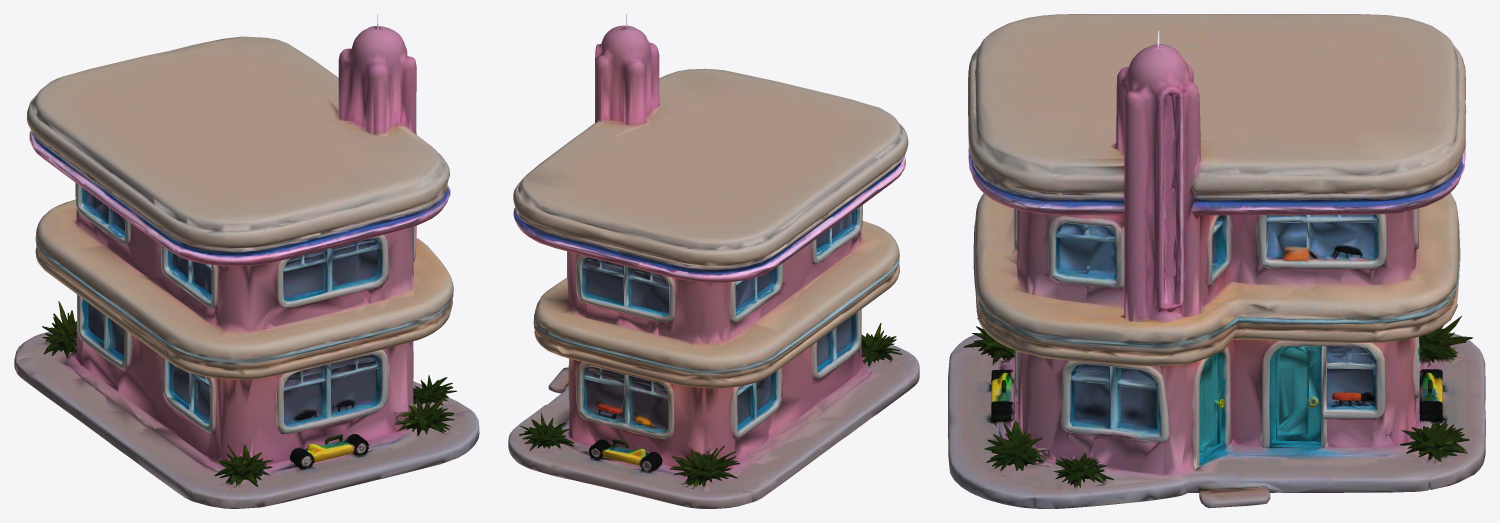
Rendered from compact-motel-diet.glb.
3 views of the same model, side by side, from view 1: azimuth 30°, elevation 25°; view 2: azimuth 150°, elevation 25°; view 3: azimuth 270°, elevation 25° (orthographic). The views are drawn at different scales.
Visible parts, largest first — view 1: tripo_node_a22088d6-75dc-4e1b-8519-56c5ea479b7a; view 2: tripo_node_a22088d6-75dc-4e1b-8519-56c5ea479b7a; view 3: tripo_node_a22088d6-75dc-4e1b-8519-56c5ea479b7a.
Boxes of the visible parts, bbox=[...] form: tripo_node_a22088d6-75dc-4e1b-8519-56c5ea479b7a: bbox=[14, 14, 479, 508]; tripo_node_a22088d6-75dc-4e1b-8519-56c5ea479b7a: bbox=[508, 14, 919, 508]; tripo_node_a22088d6-75dc-4e1b-8519-56c5ea479b7a: bbox=[948, 14, 1485, 508].
Size of the model in its own units: 0.7498 by 0.9145 by 0.9813.
1 material, 1 textured.
